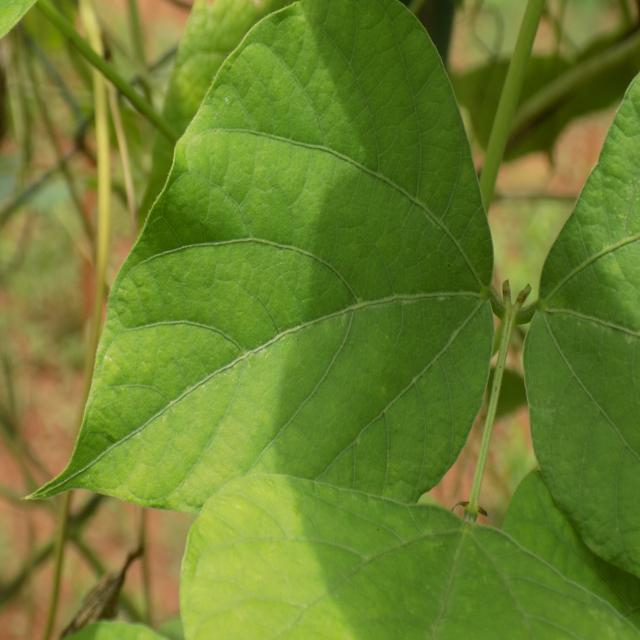Dolicos bean_healthy: (21, 0, 490, 541)
